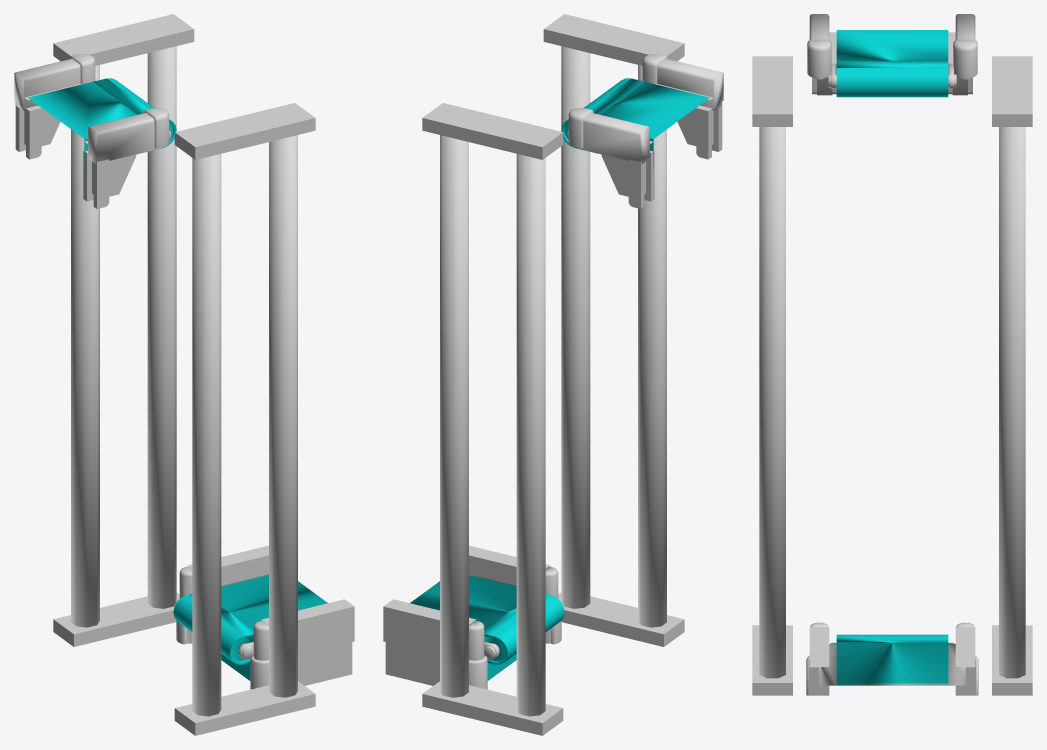
File: Lift2DownForwardInternalVariant.gltf
The picture shows the model from 3 angles, left to right: view 1: azimuth 30°, elevation 25°; view 2: azimuth 150°, elevation 25°; view 3: azimuth 270°, elevation 25°; orthographic projection.
Parts seen in each view (by area): view 1: Lift_2DownForward_Layer0_LOD0; view 2: Lift_2DownForward_Layer0_LOD0; view 3: Lift_2DownForward_Layer0_LOD0.
Part boxes in pixels (x1,y1,x2,y2): Lift_2DownForward_Layer0_LOD0: [14, 14, 354, 735]; Lift_2DownForward_Layer0_LOD0: [383, 14, 723, 735]; Lift_2DownForward_Layer0_LOD0: [752, 14, 1032, 695].
Bounding box in the file's own units: 1 × 2.27 × 0.9604.
